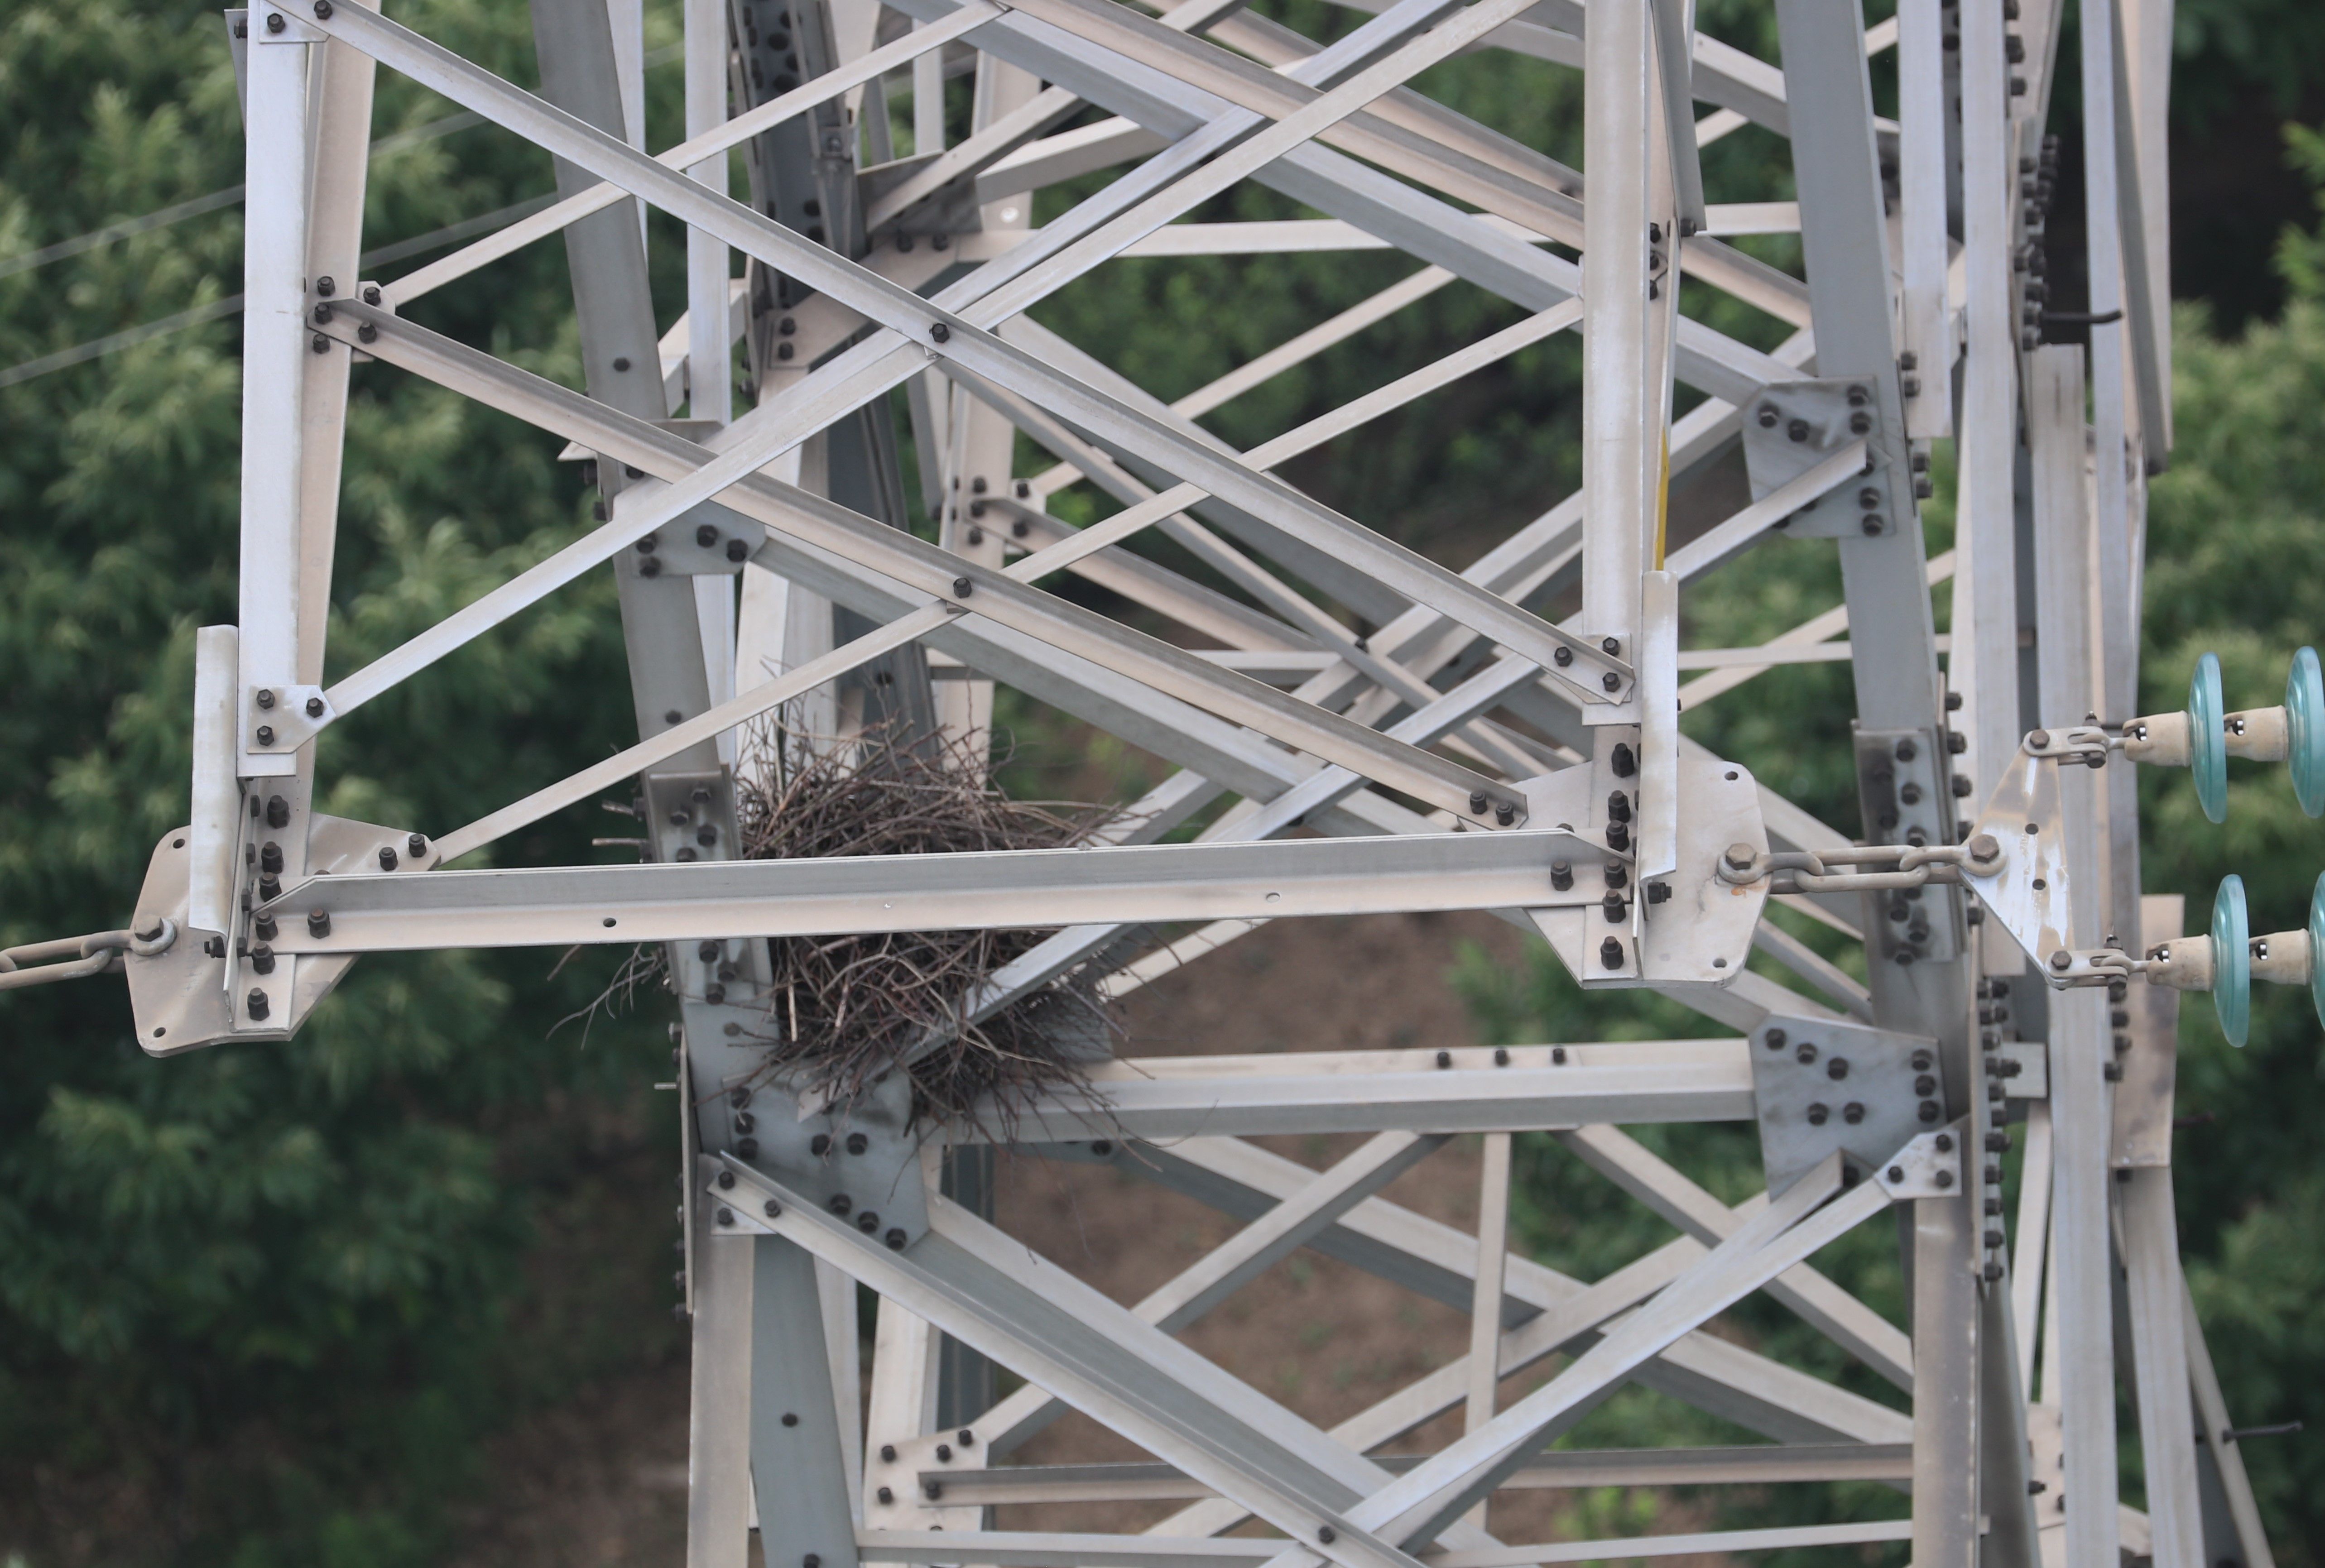niaowo: (733, 698, 1107, 1130)
